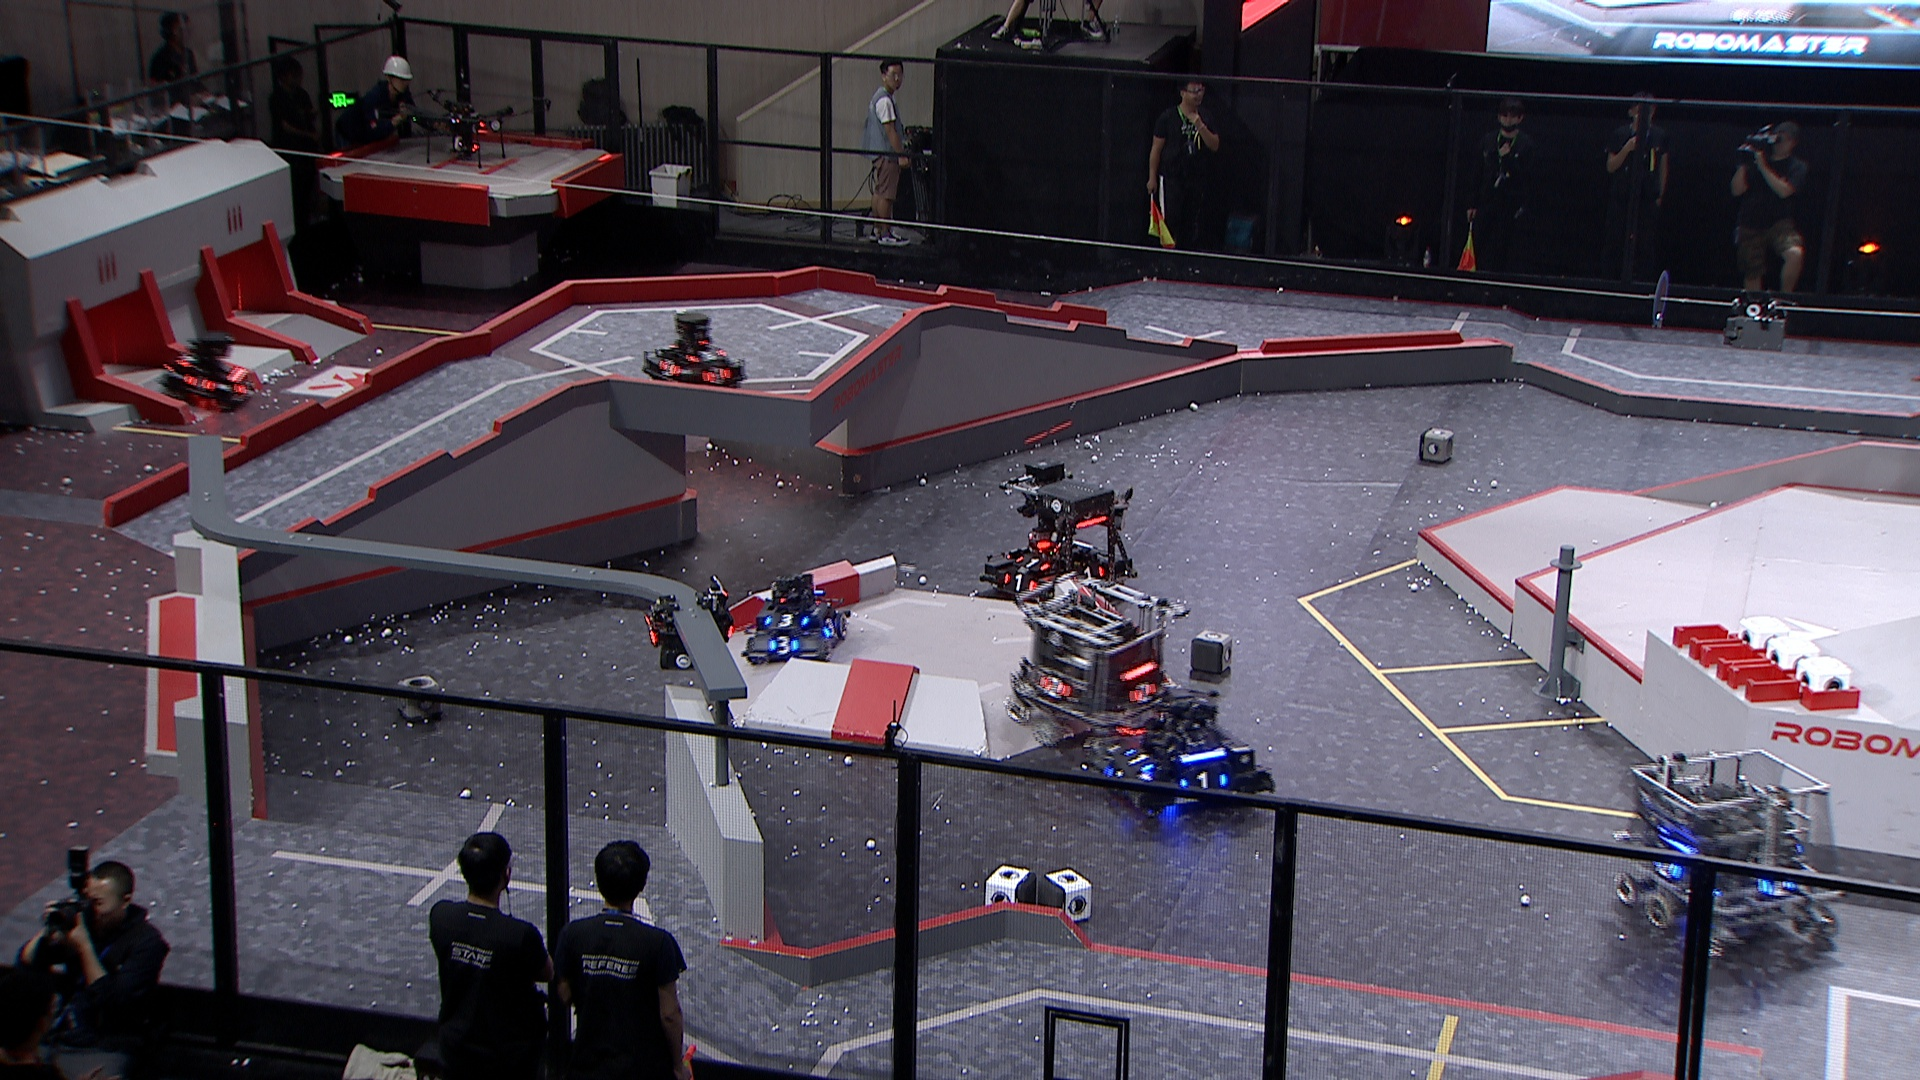armor: (1178, 767, 1229, 796), (1754, 869, 1799, 901), (1121, 745, 1160, 774), (1651, 849, 1685, 882), (1001, 570, 1040, 597), (1068, 564, 1112, 589), (1039, 670, 1069, 702), (761, 611, 811, 629), (1015, 550, 1054, 574), (183, 371, 218, 396), (767, 633, 803, 657), (1130, 680, 1160, 708), (684, 343, 727, 363), (231, 373, 264, 398), (642, 612, 662, 647), (703, 367, 733, 389), (655, 353, 680, 378), (820, 612, 841, 640), (171, 348, 196, 371)
car: (1613, 745, 1846, 957), (1005, 566, 1192, 745), (1079, 680, 1278, 822), (981, 469, 1135, 604), (746, 567, 851, 662), (638, 309, 750, 396), (161, 328, 264, 407)
watcher: (642, 574, 741, 678)
